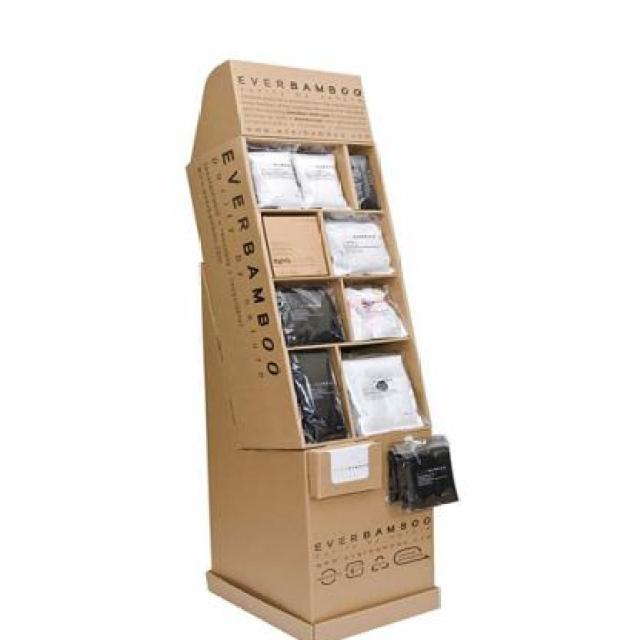box: (177, 50, 477, 640)
